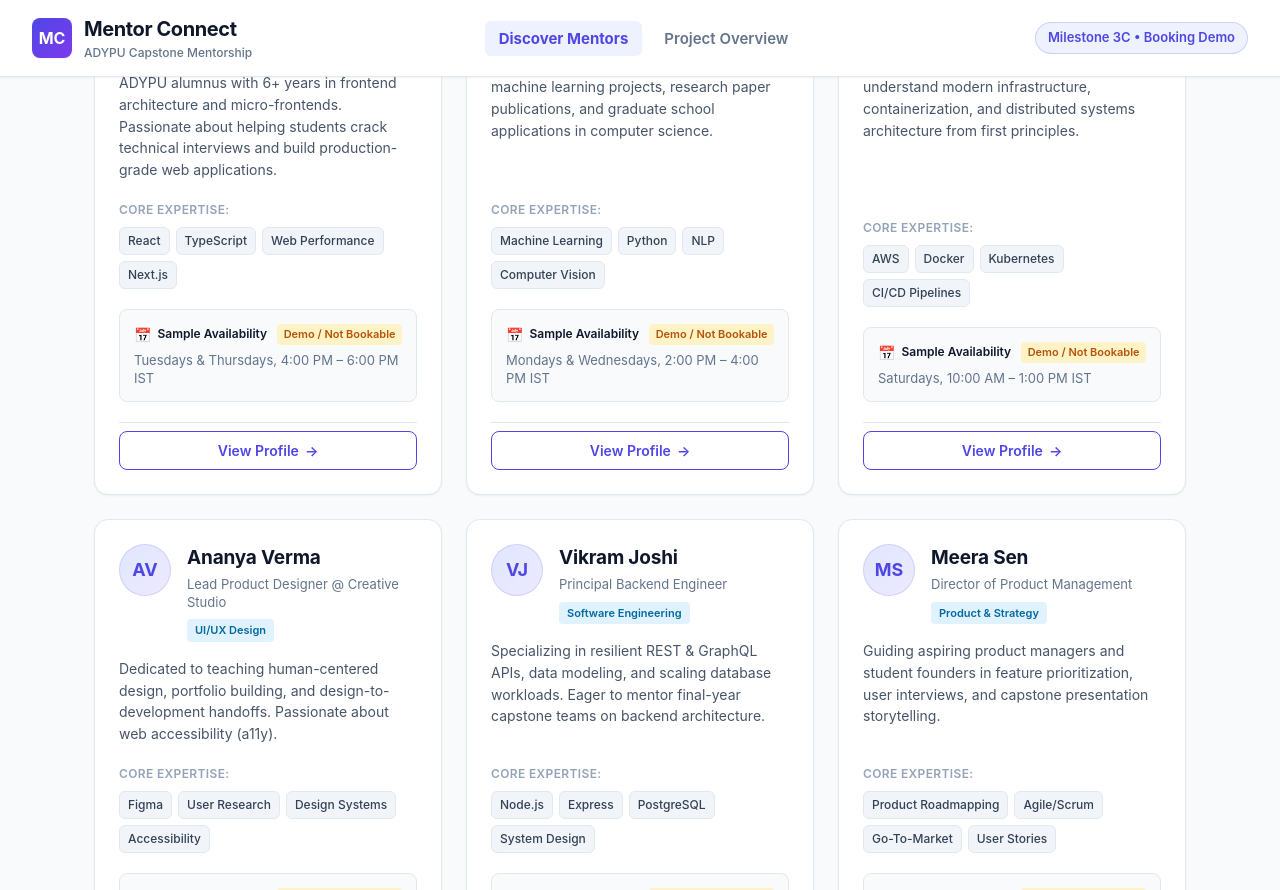
Profile Navigation › opens detailed mentor profile upon clicking View Profile
The image size is (1280, 890).
(page scrolled)
Note: Click View Profile for Aarav Sharma
Click the button with aria-label "View detailed profile of Aarav Sharma" at coordinates (268, 450), box [119,431,417,470]
(page scrolled)
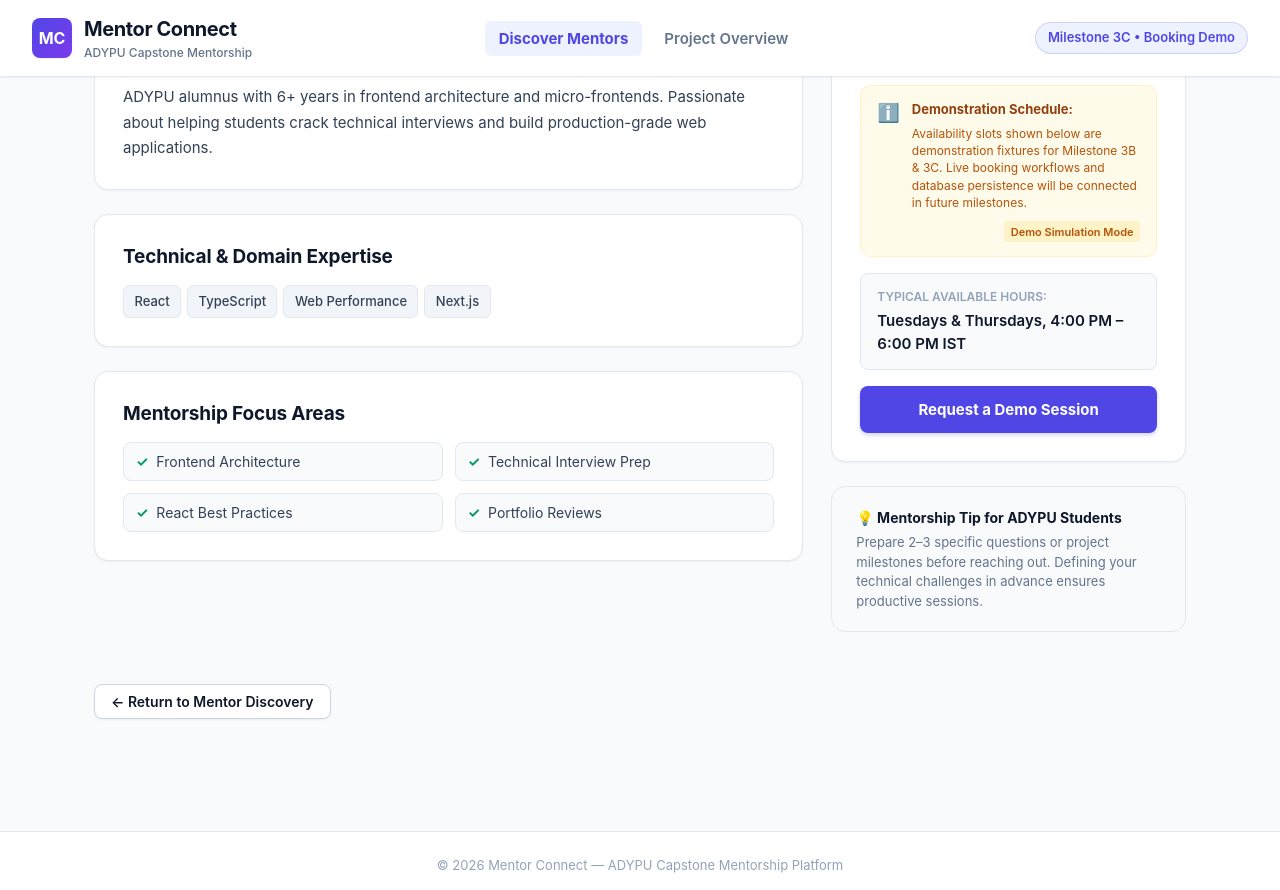
Expected: the heading "About the Mentor" is shown, [123,44,283,66]
Now the heading "Technical & Domain Expertise" is shown, box [123,244,393,268]
Now the heading "Mentorship Focus Areas" is shown, box [123,402,345,425]
